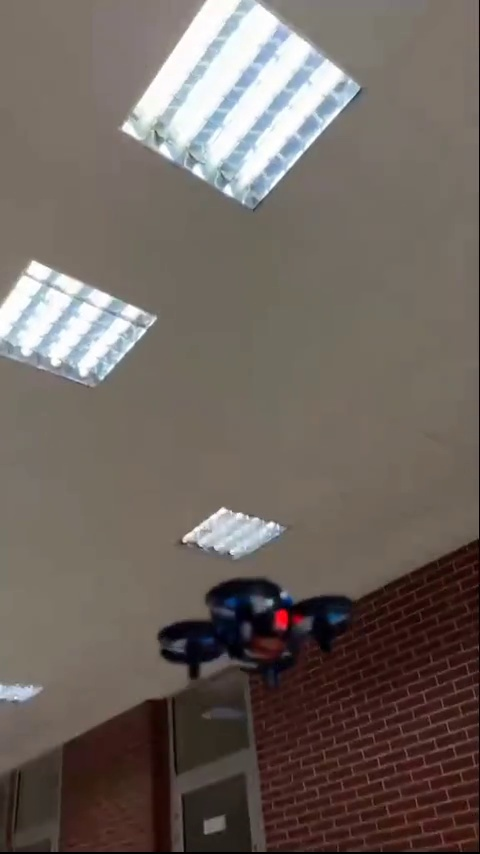drone: (157, 579, 349, 684)
